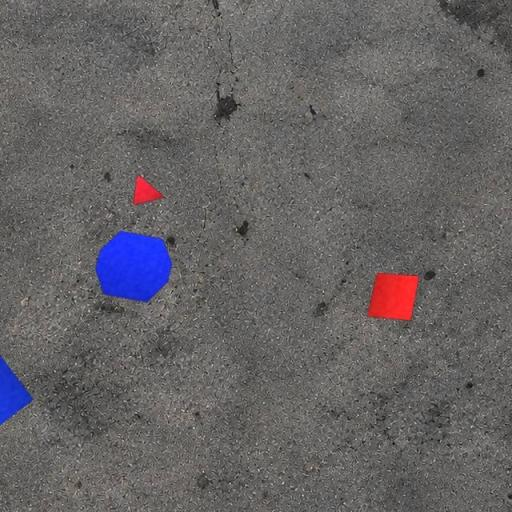BLUE_SQUARE: (0, 335, 34, 452)
RED_SQUARE: (366, 272, 420, 322)
